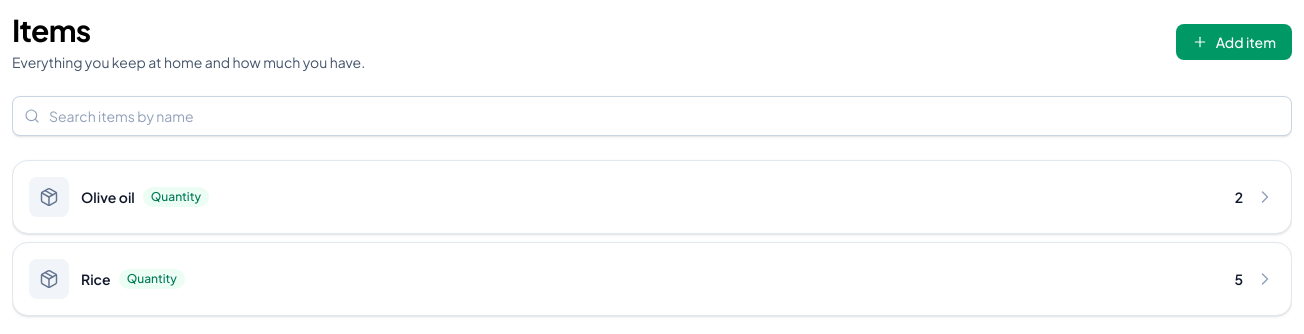
Test: ItemsView › debounces the text filter and queries the API with nameFilter
The image size is (1304, 334).
Expected: the text "Rice" is shown, [81,269,111,289]
Type "olive" into the search field with placeholder "Search items by name" at (652, 116), box [12,96,1292,136]
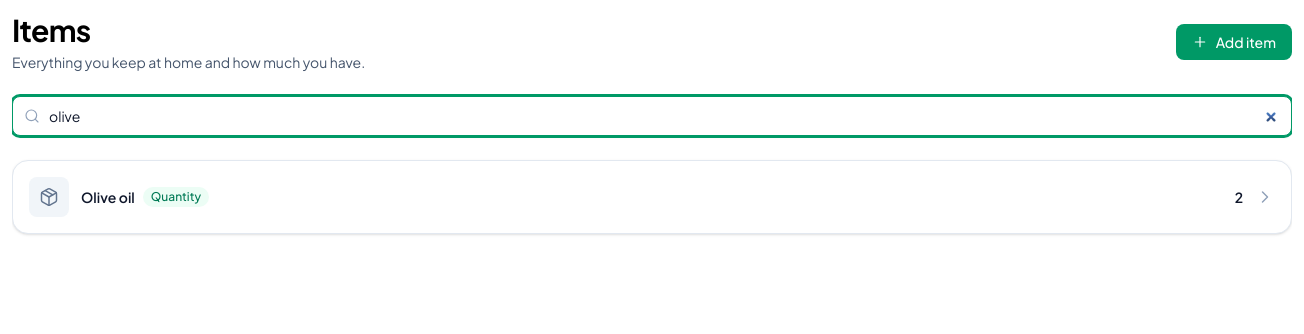
Expected: the text "Olive oil" is shown, [81,187,135,207]
Expected: the link "Rice" is gone
